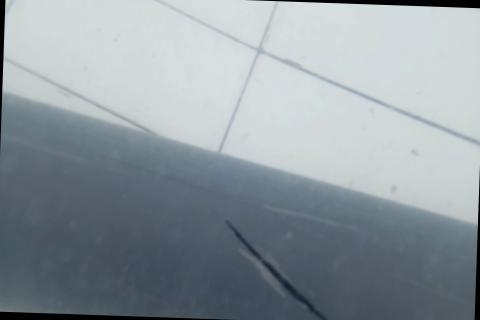keretakan: (221, 216, 340, 320)
